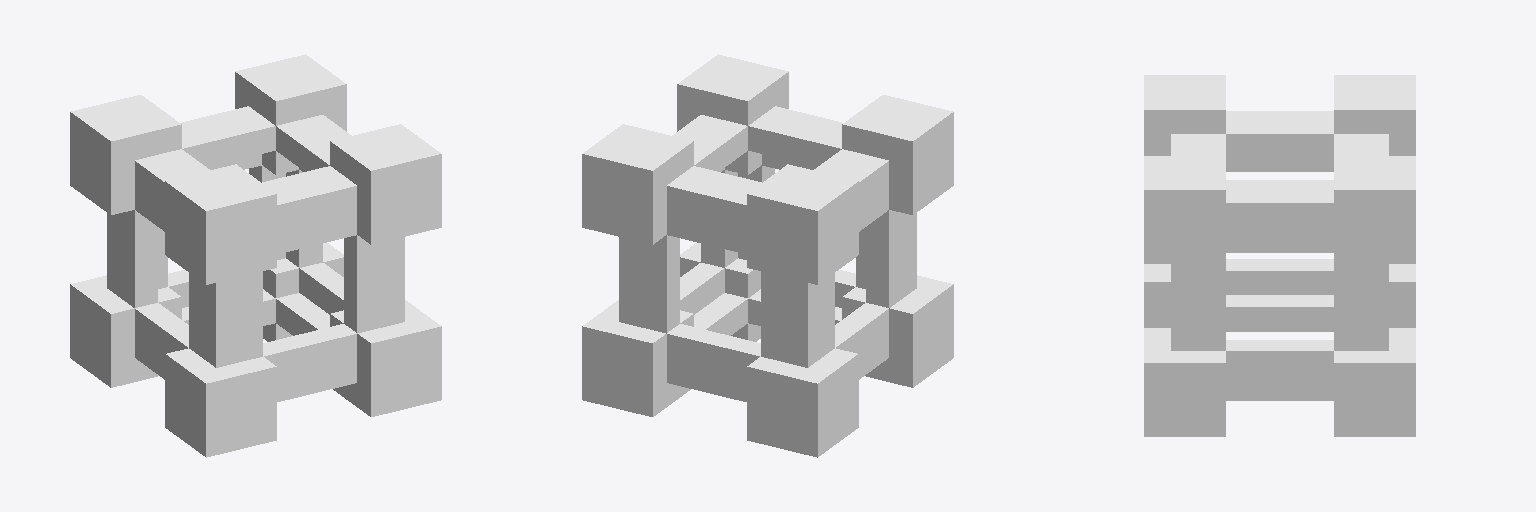
The model's file is leymachinebase.obj.
3 renders of one model, left to right at view 1: azimuth 30°, elevation 25°; view 2: azimuth 150°, elevation 25°; view 3: azimuth 270°, elevation 25°, orthographic.
Visible parts, largest first — view 1: g0; view 2: g0; view 3: g0.
Boxes of the visible parts, x1,y1,x2,y2 form: g0: [70, 54, 441, 457]; g0: [582, 54, 953, 457]; g0: [1144, 75, 1415, 436].
Bounding box in the file's own units: 1 × 1 × 1.